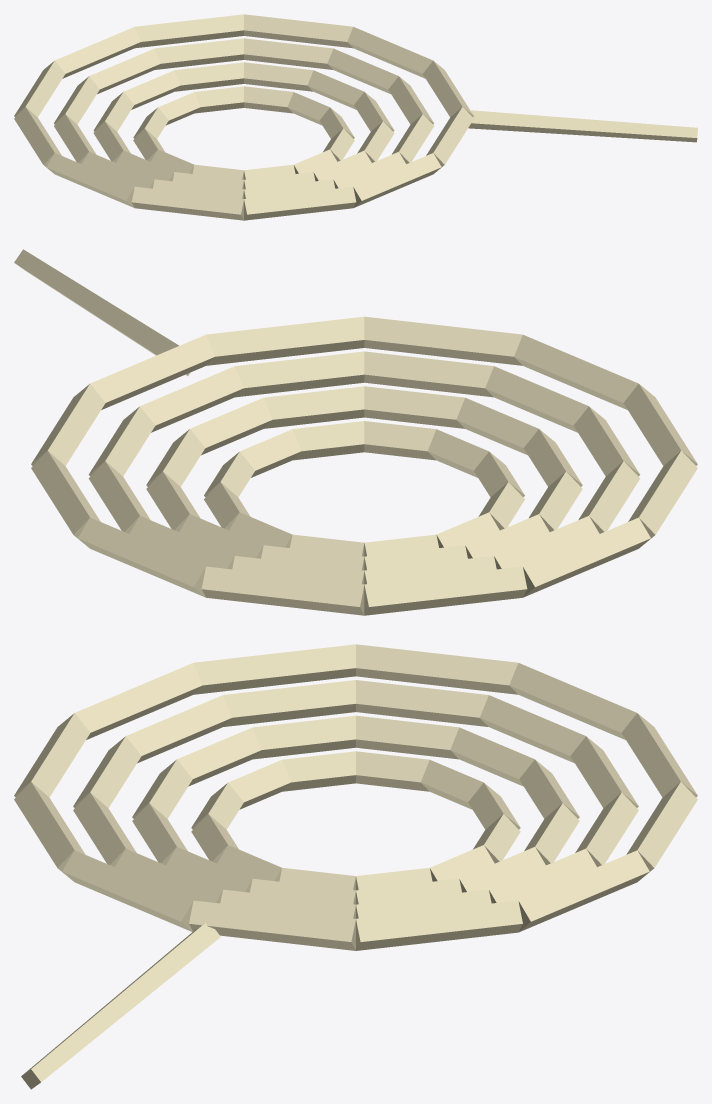
Rendered from drop_bowstring.glb.
3 views of the same model, one above another, from view 1: azimuth 30°, elevation 25°; view 2: azimuth 150°, elevation 25°; view 3: azimuth 270°, elevation 25° (orthographic). The views are drawn at different scales.
Parts seen in each view (by area): view 1: drop_bowstring; view 2: drop_bowstring; view 3: drop_bowstring.
Part boxes in pixels (x1,y1,x2,y2): drop_bowstring: [14, 14, 697, 220]; drop_bowstring: [14, 249, 697, 615]; drop_bowstring: [14, 644, 697, 1089].
Size of the model in its own units: 0.3178 by 0.024 by 0.2316.
